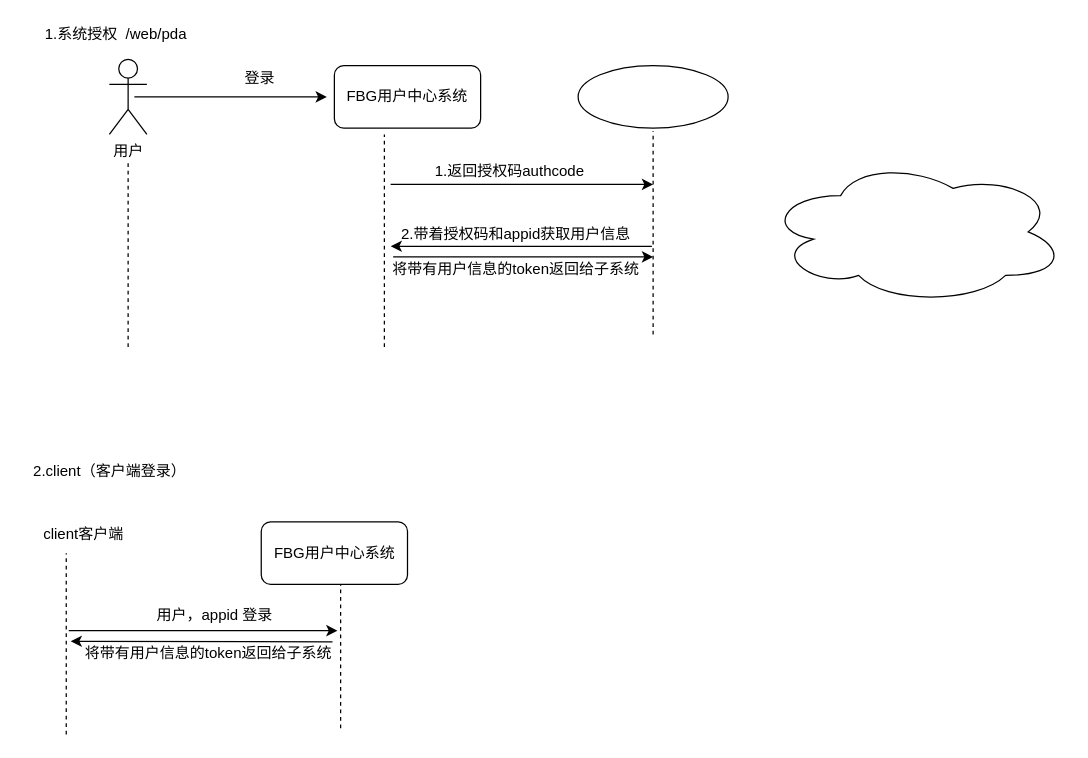
Image size: 1088x758. Some labels were removed from this diagram. Here are the shapes that lost their labels. From the top down, the centre of each, then its label:
pixel 652 96: 子系统
pixel 915 231: 2..进入到子系统界面需要获得fbg用 户信息，子系统需要调用 fbg获取用户信息token接口 /abutment/auth
